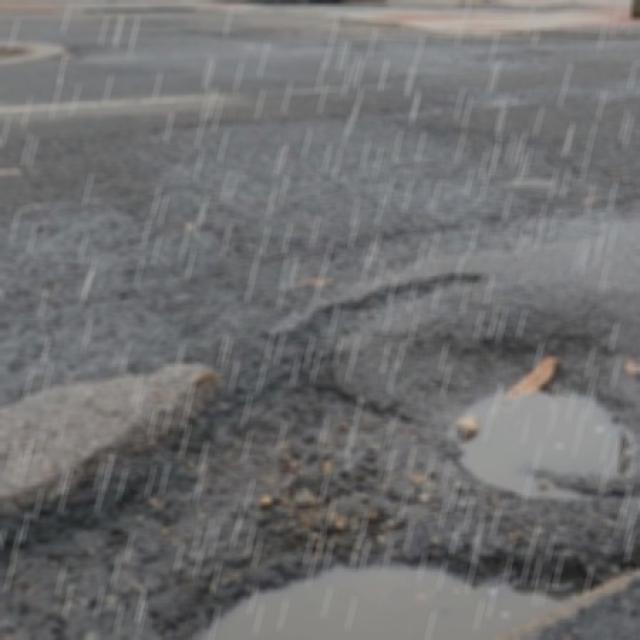road-pothole: (155, 541, 615, 639), (444, 366, 631, 502)
